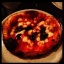pizza: (4, 13, 59, 53)
